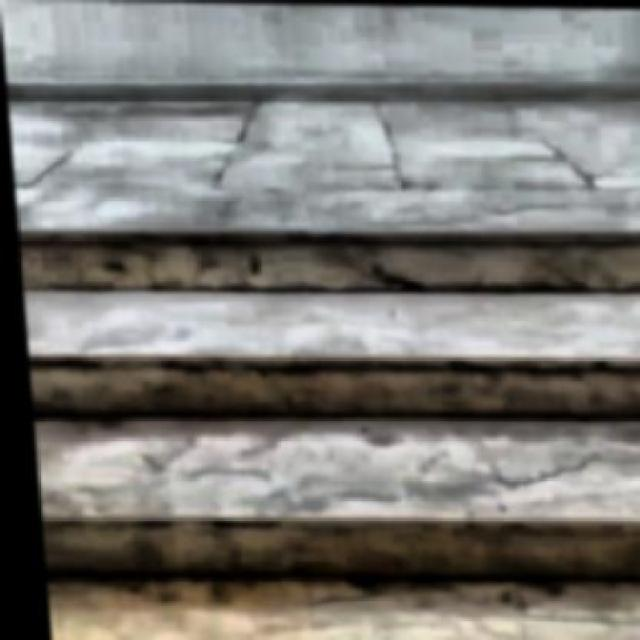stair: (14, 220, 638, 638)
